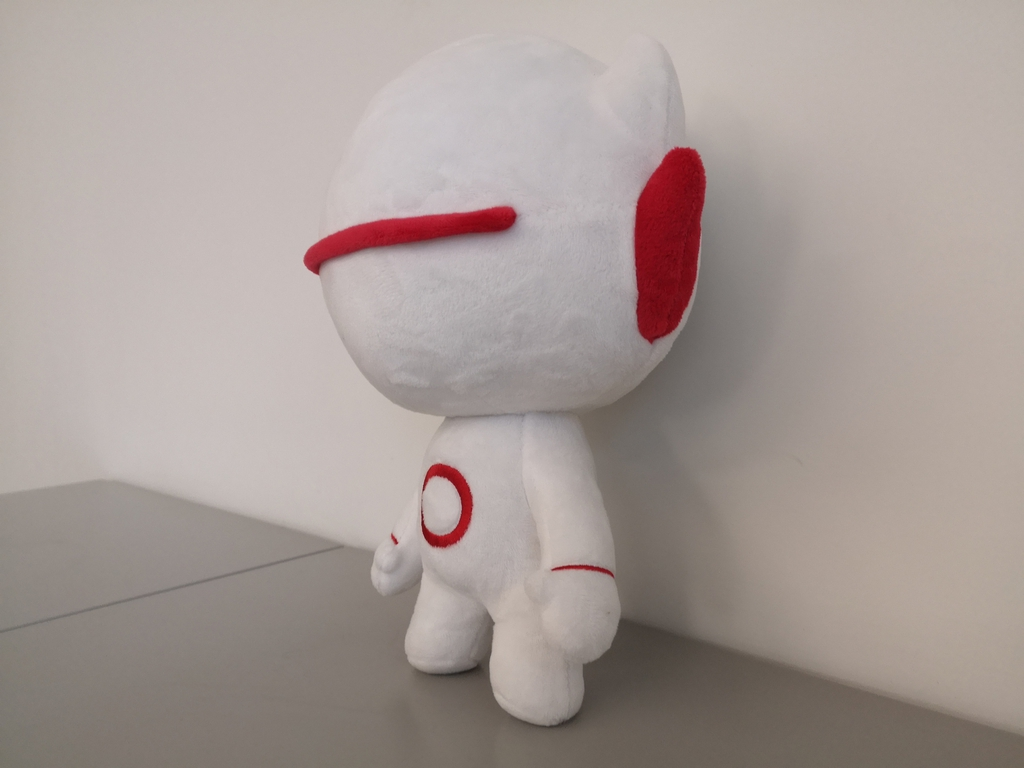yunbao: (281, 19, 735, 736)
